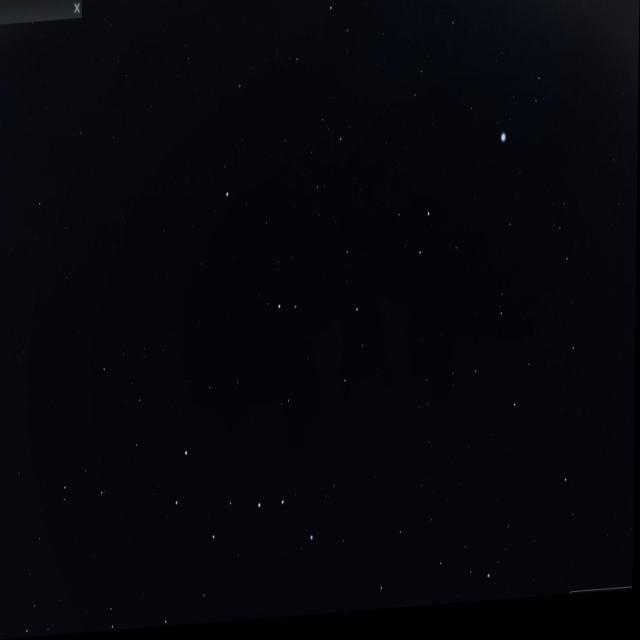lyra: (493, 59, 549, 158)
ursa_major: (164, 427, 328, 576)
